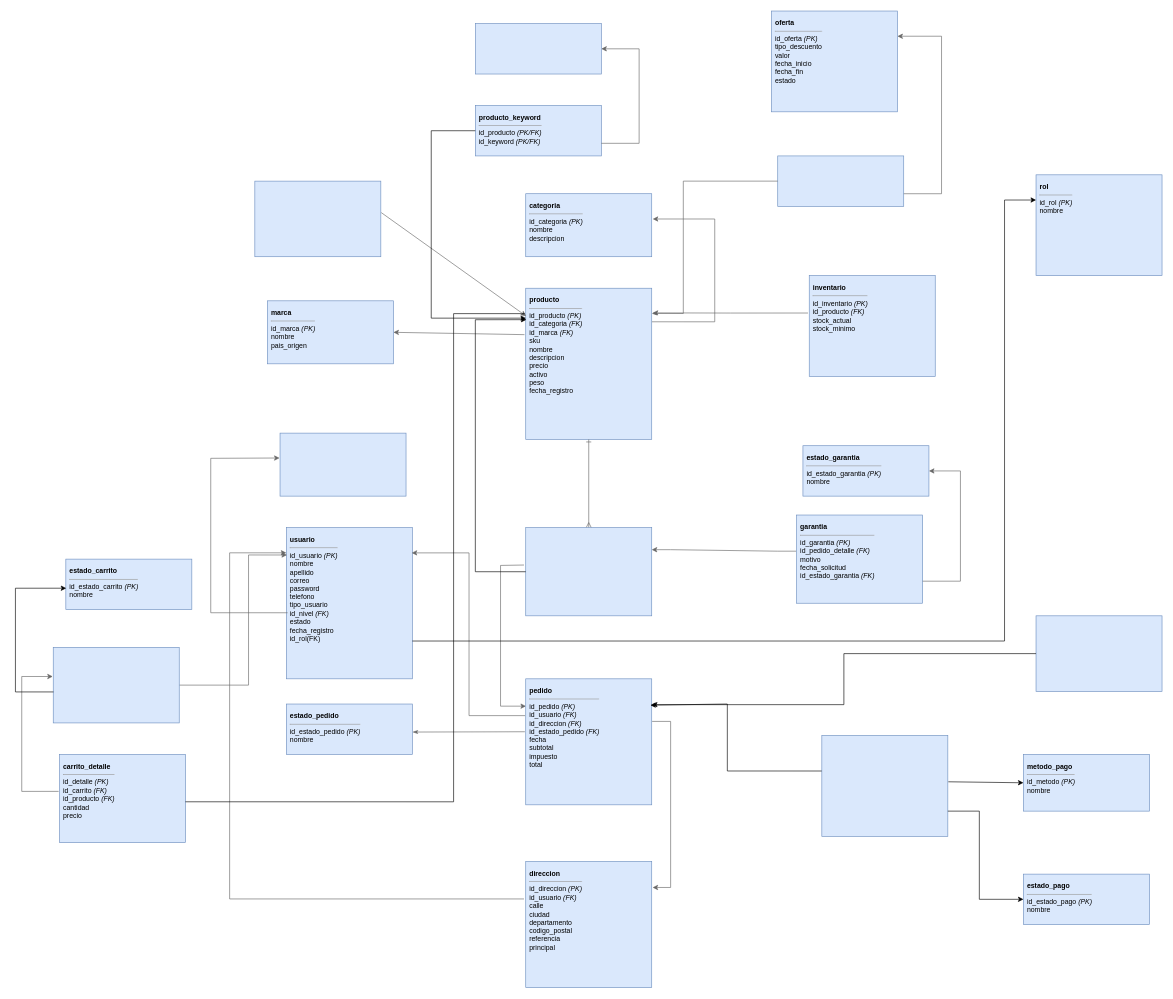
The diagram is 1173 pixels wide and 999 high, and some of its shapes have lost their labels. The centre of each missing label's shape, as x and y in pixels:
carrito id_carrito (PK) id_usuario (FK) id_estado_carrito (FK) fecha: [116,685]
factura id_factura (PK) id_pedido (FK) numero fecha: [1098,653]
imagen_producto id_img (PK) id_producto (FK) url principal: [317,218]
keyword id_keyword (PK) nombre: [538,48]
nivel_fidelidad id_nivel (PK) nombre porcentaje_descuento: [342,464]
pago id_pago (PK) id_pedido (FK) id_metodo (FK) monto fecha id_estado_pago (FK): [884,785]
pedido_detalle id_detalle (PK) id_pedido (FK) id_producto (FK) cantidad precio: [588,571]
producto_oferta id_producto (PK/FK) id_oferta (PK/FK): [840,180]
